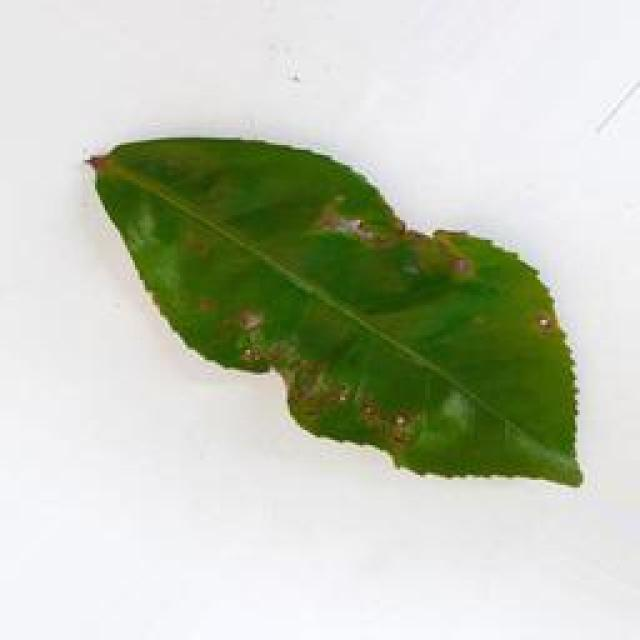Helopeltis: (84, 129, 593, 503)
